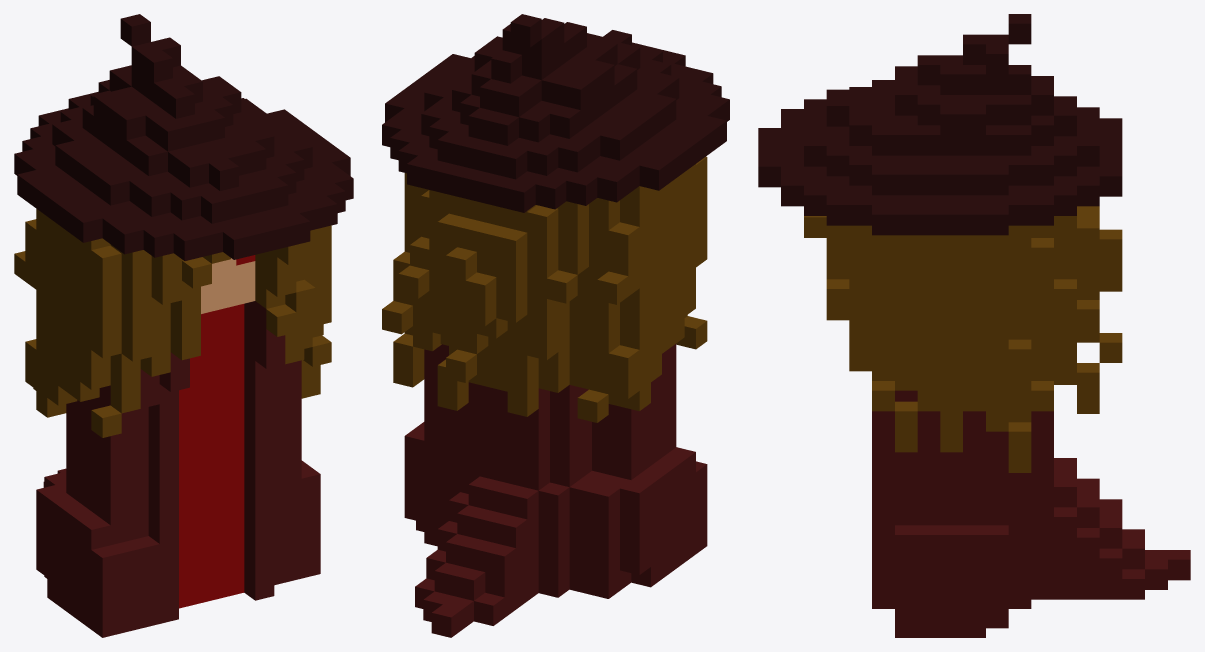
Rendered from Bruxa 02 - Andando-05.obj.
3 renders of one model, left to right at view 1: azimuth 30°, elevation 25°; view 2: azimuth 150°, elevation 25°; view 3: azimuth 270°, elevation 25°, orthographic. The views are drawn at different scales.
Bounding box in the file's own units: 14 × 27 × 19.
1 material, 1 textured.
